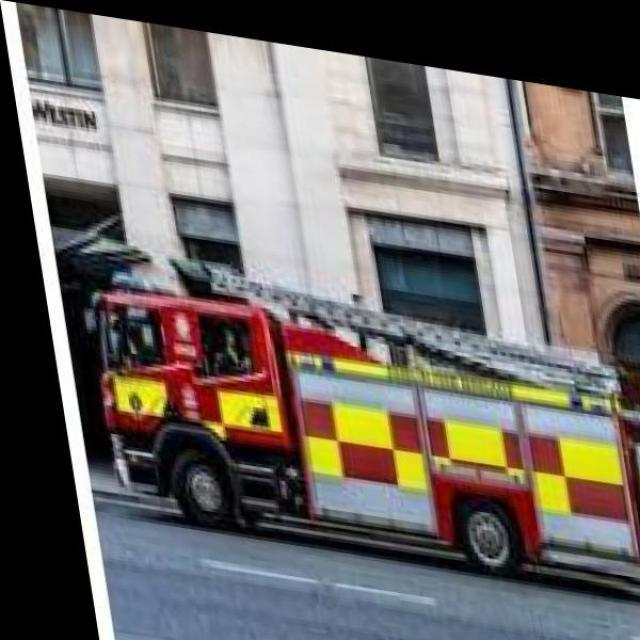emergency: (87, 268, 639, 584)
